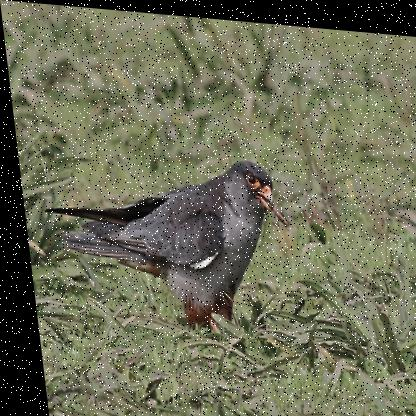Burung: (28, 139, 296, 350)
